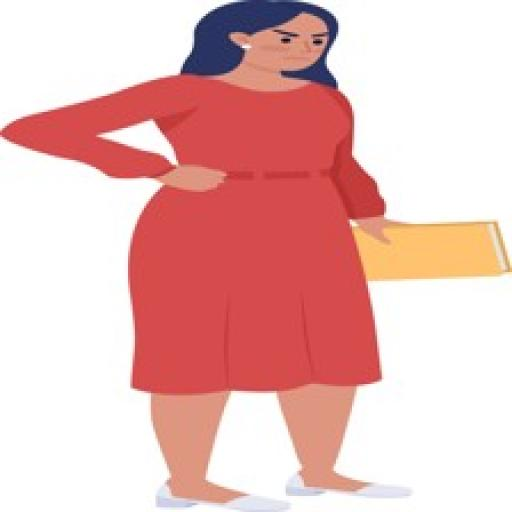human: (3, 0, 512, 512)
